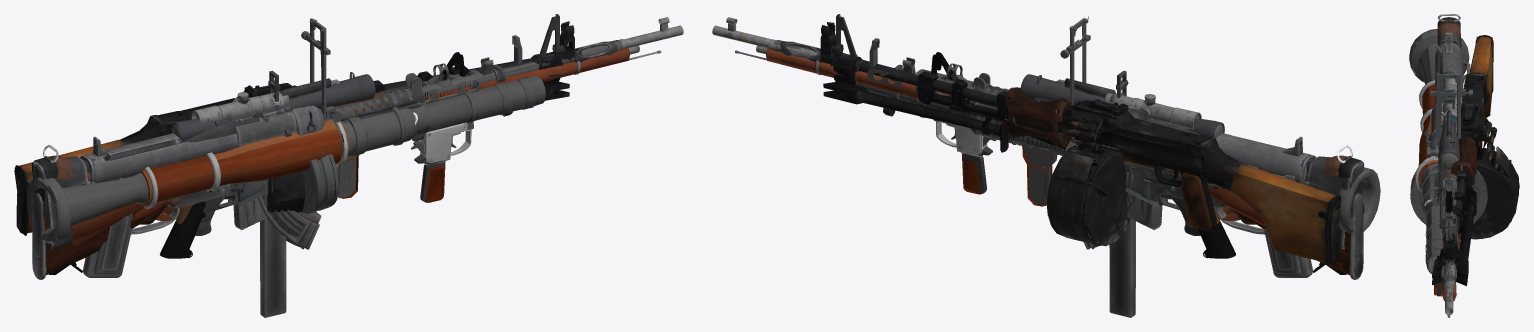
The model's file is guns.fbx.
3 renders of one model, left to right at view 1: azimuth 30°, elevation 25°; view 2: azimuth 150°, elevation 25°; view 3: azimuth 270°, elevation 25°, orthographic. The views are drawn at different scales.
Visible parts, largest first — view 1: rpg, m3, m60, rpd, ppsh, m40, mosin, m16, ak, m79; view 2: rpd, m3, m60, rpg, mosin, m16, m40, m79, ppsh, ak; view 3: rpd, rpg, m60, m79, ppsh, m3, m40, mosin, m16, ak.
Part boxes in pixels (x1,y1,x2,y2): rpg: [26, 35, 545, 243]; m3: [32, 92, 436, 317]; m60: [31, 14, 617, 249]; rpd: [14, 21, 581, 235]; ppsh: [32, 63, 481, 277]; m40: [31, 40, 622, 246]; mosin: [131, 17, 683, 221]; m16: [46, 52, 464, 274]; ak: [32, 57, 493, 256]; m79: [33, 18, 426, 220]; rpd: [814, 22, 1341, 265]; m3: [1101, 133, 1363, 317]; m60: [778, 14, 1364, 249]; rpg: [867, 38, 1380, 232]; mosin: [712, 17, 1354, 270]; m16: [931, 52, 1346, 274]; m40: [773, 40, 1364, 220]; m79: [970, 16, 1362, 218]; ppsh: [915, 63, 1363, 277]; ak: [902, 57, 1363, 256]; rpd: [1432, 35, 1519, 286]; rpg: [1409, 29, 1469, 296]; m60: [1424, 14, 1462, 283]; m79: [1427, 17, 1472, 205]; ppsh: [1410, 133, 1487, 228]; m3: [1429, 32, 1470, 301]; m40: [1438, 71, 1459, 286]; mosin: [1441, 78, 1462, 317]; m16: [1443, 189, 1452, 248]; ak: [1443, 170, 1454, 225].
Bounding box in the file's own units: 1.23 × 0.5152 × 0.2105.
Materials: 1 (1 with a texture image).
